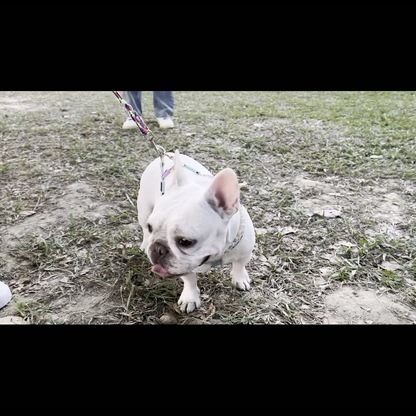bulldog: (131, 146, 257, 315)
